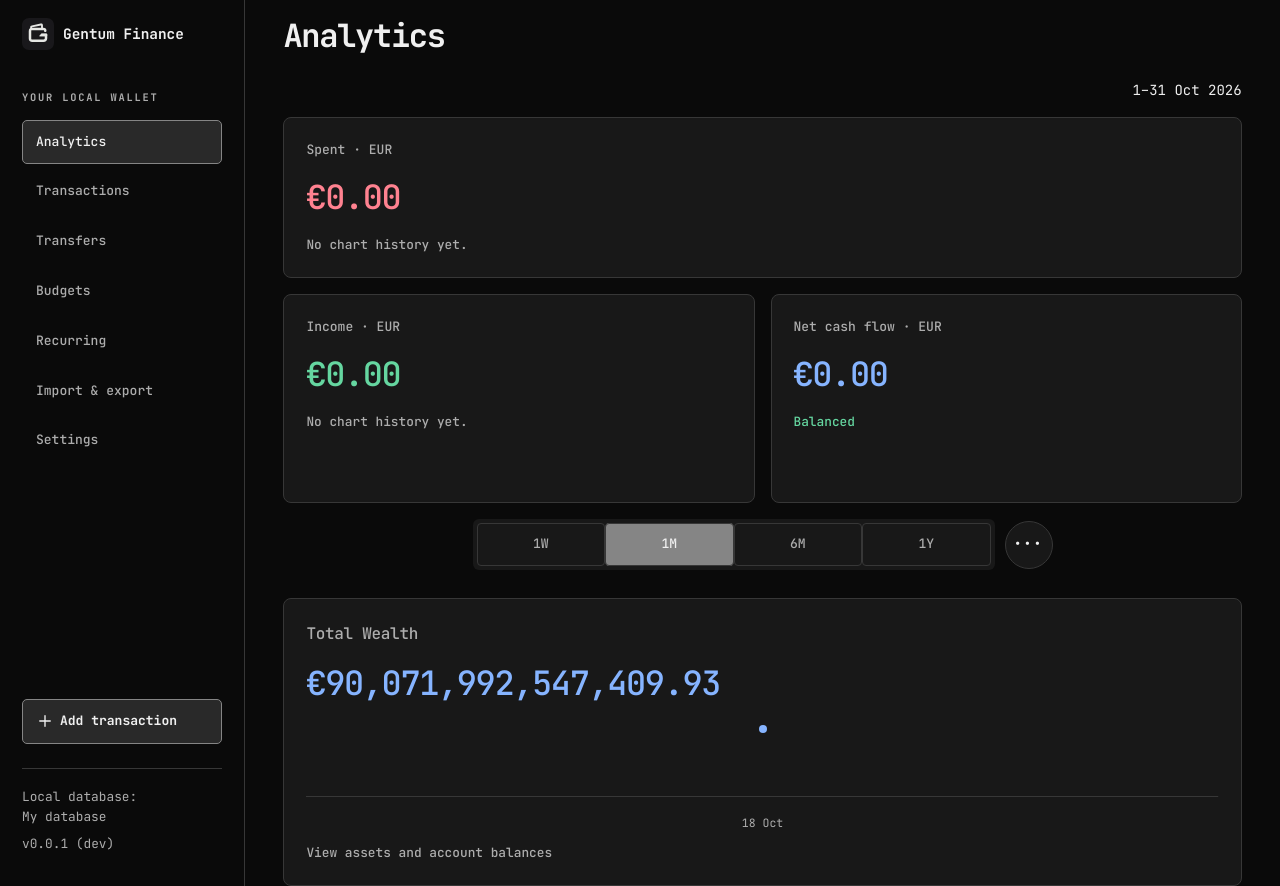
Test: uses the single eligible destination and keeps only category ID references
expect the heading "Total Wealth" is shown: met, box [306,621,418,647]
Step 1. Click the button "Import & export" → (122, 391), box [22,369,222,413]
(page scrolled)
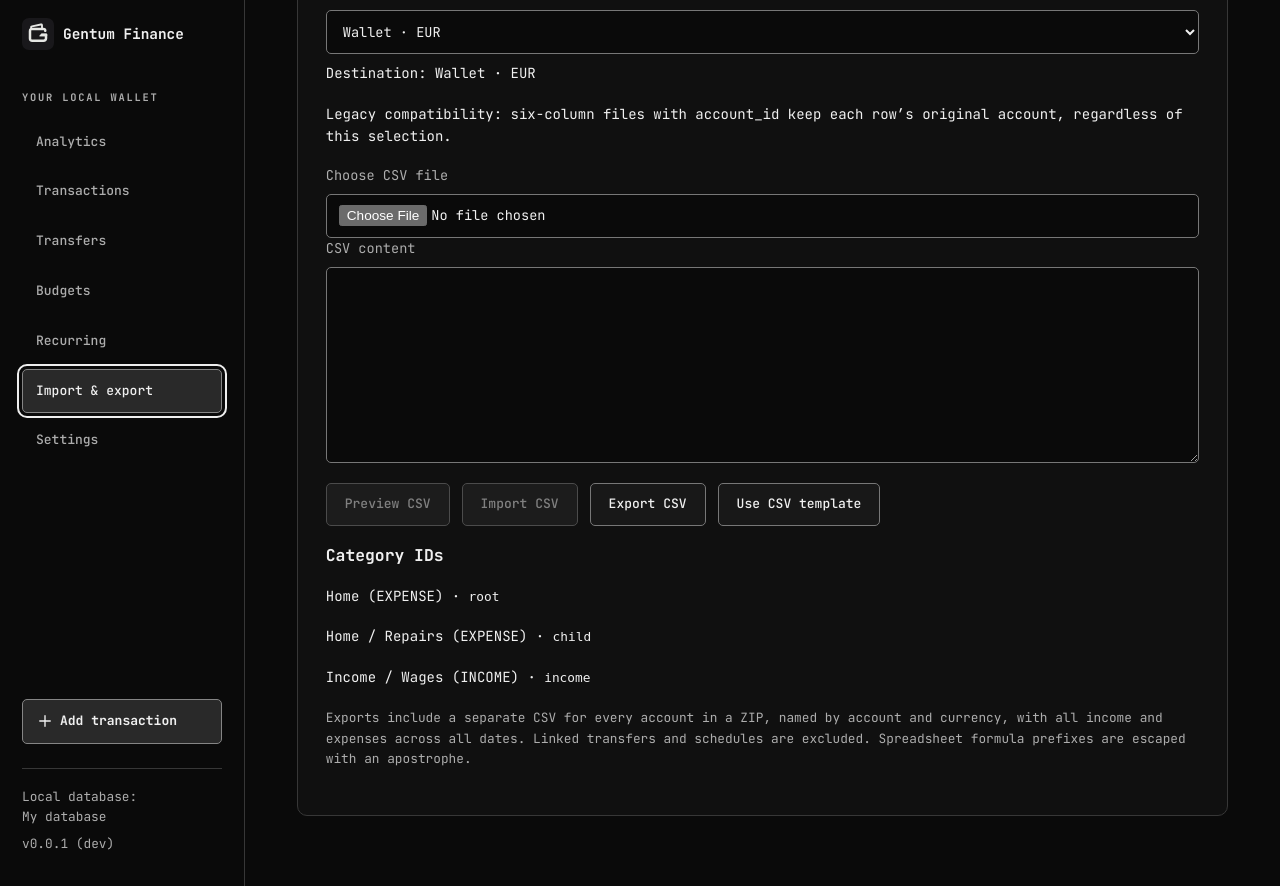
expect the dropdown labelled "Import into account" shows "Wallet · EUR": met, box [326,10,1199,54]
expect the text "Home / Repairs (EXPENSE) · child" is shown: met, box [326,627,591,645]
Step 2. Click the button "Use CSV template" → (799, 504), box [718,483,880,526]
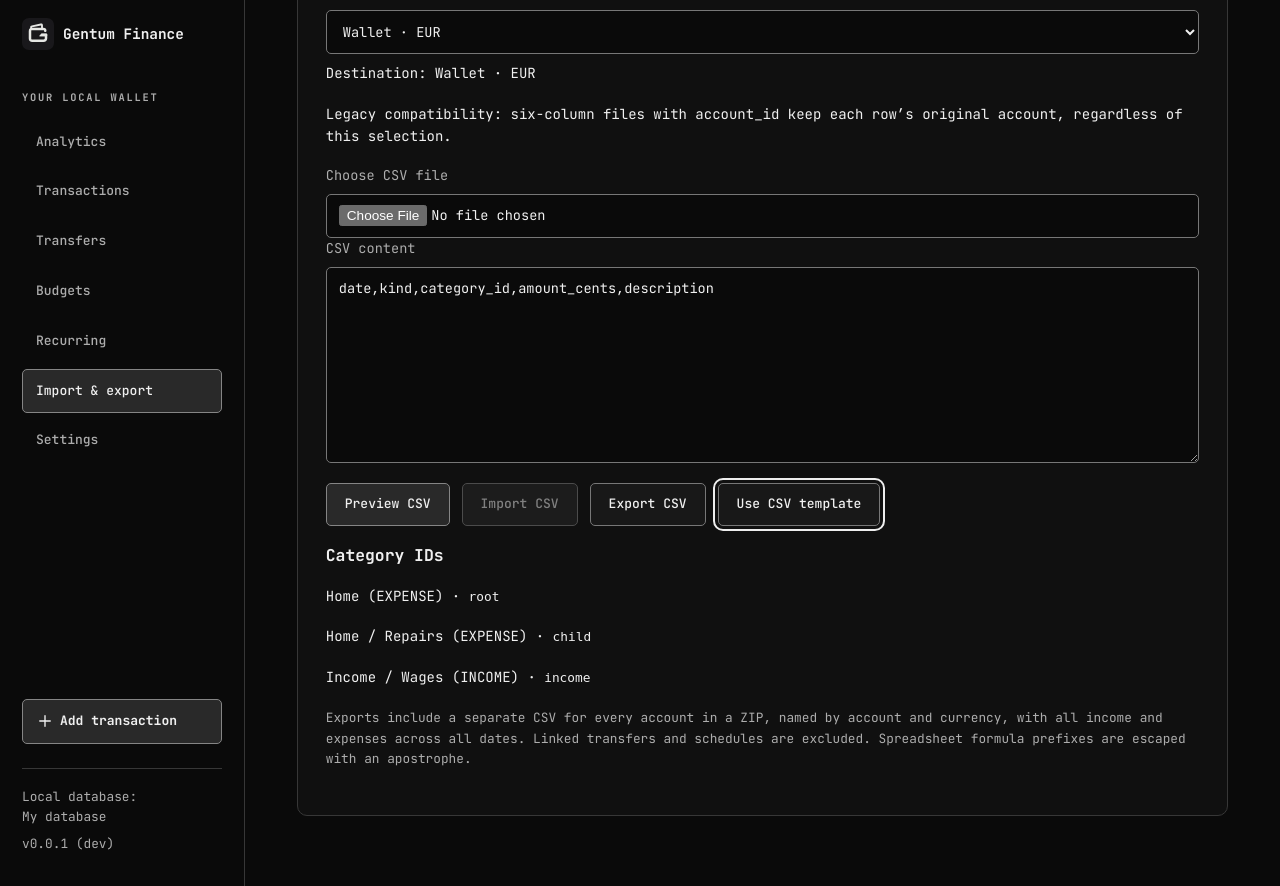
Step 3. Type "2026-10-17,EXPENSE,child,29,Test" into the text box labelled "CSV content" → (763, 365), box [326,267,1199,463]
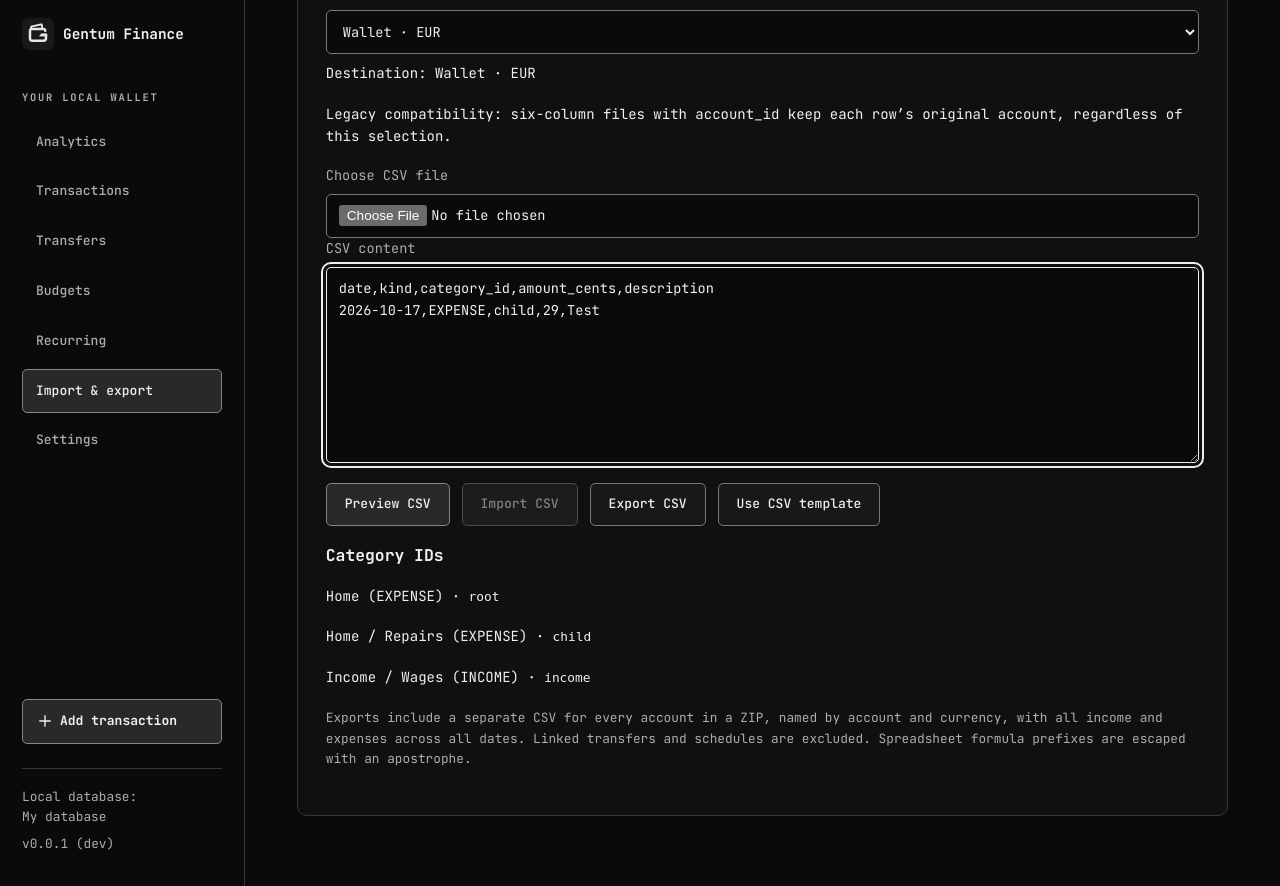
Step 4. Click the button "Preview CSV" → (388, 504), box [326,483,450,526]
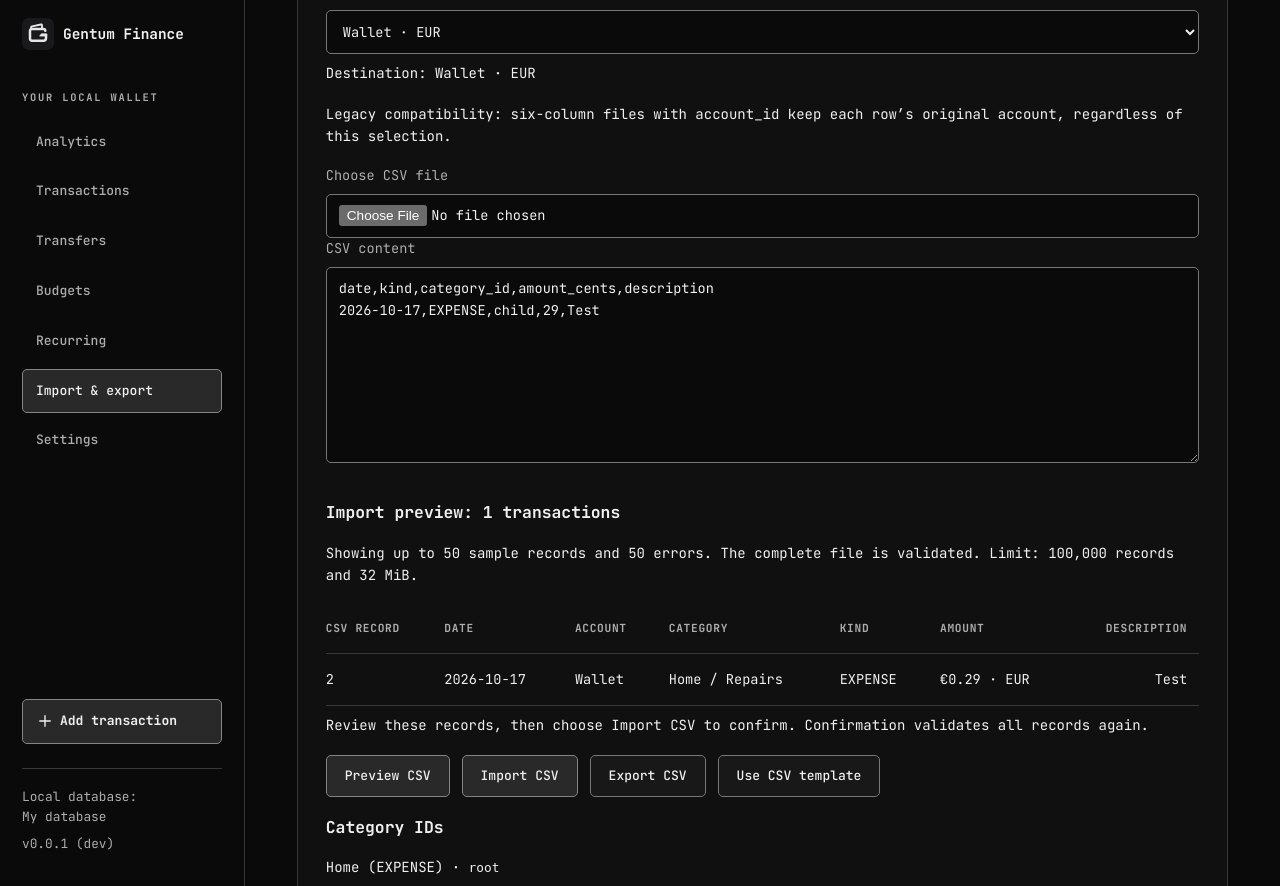
expect the heading "Import preview: 1 transactions" is shown: met, box [326,501,620,523]
Step 5. Click the button "Import CSV" → (520, 776), box [462,755,578,798]
(page scrolled)
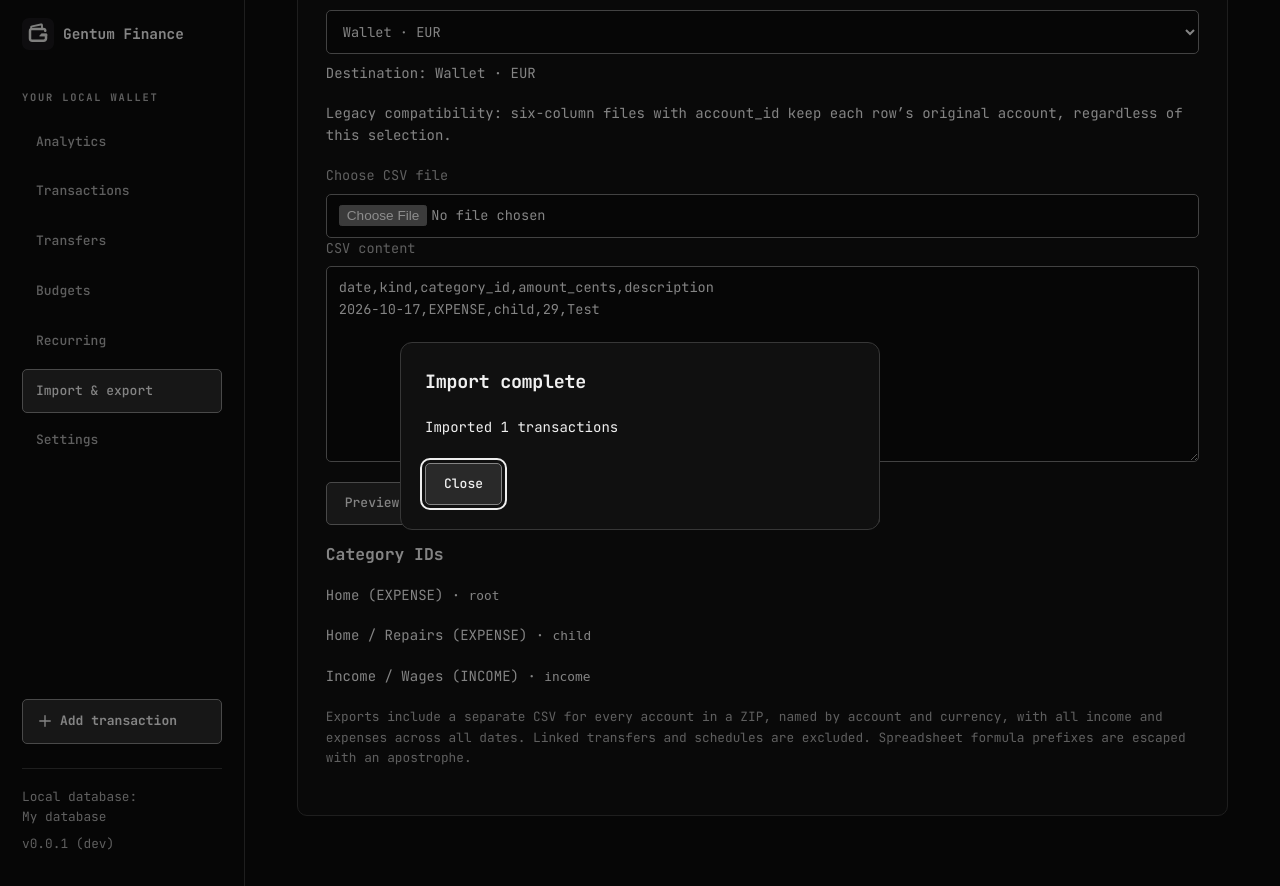
expect the heading "Import complete" is shown: met, box [425,369,586,394]
